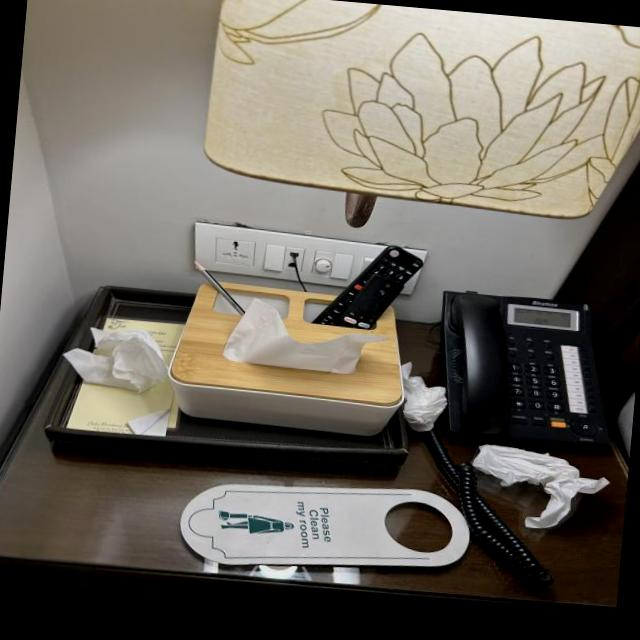mess: (471, 438, 613, 532), (70, 310, 166, 410), (390, 363, 459, 454)
messy_table: (0, 280, 624, 608)
